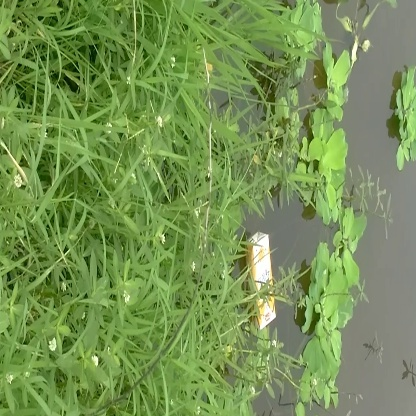milk-box: (241, 231, 283, 331)
